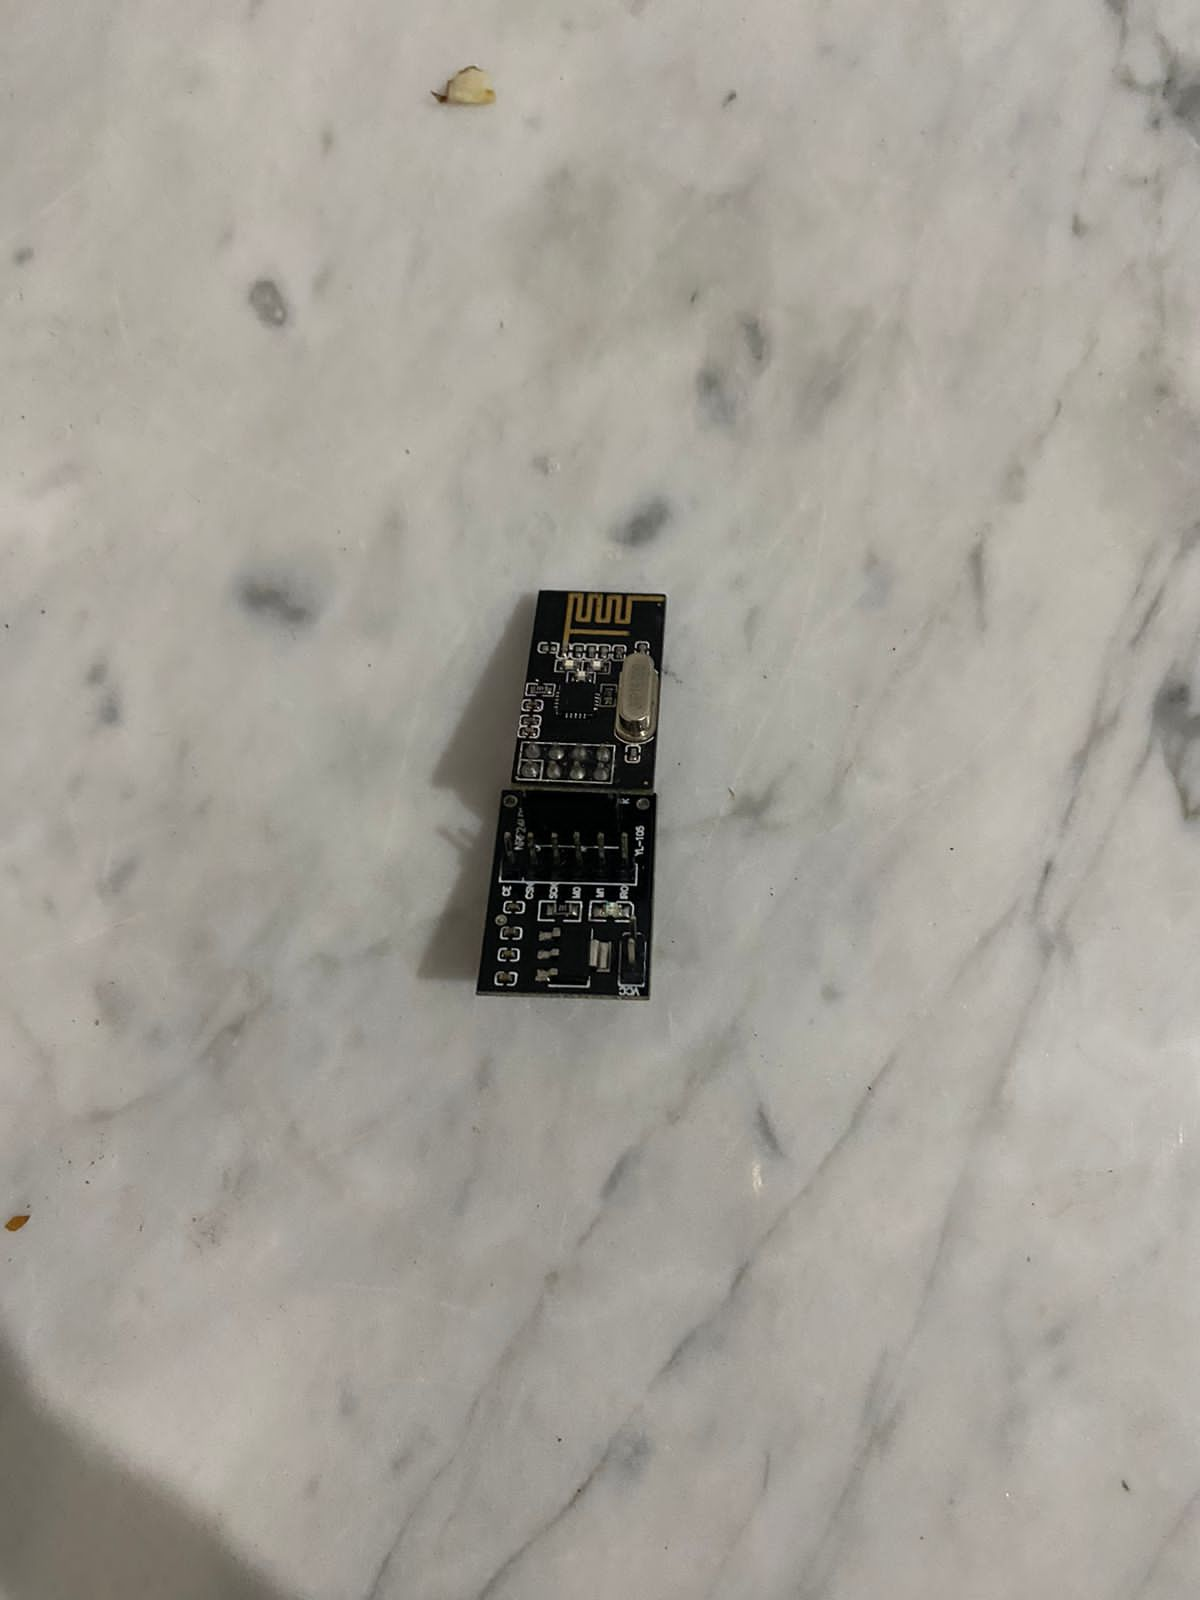RF-module: (473, 569, 686, 1014)
